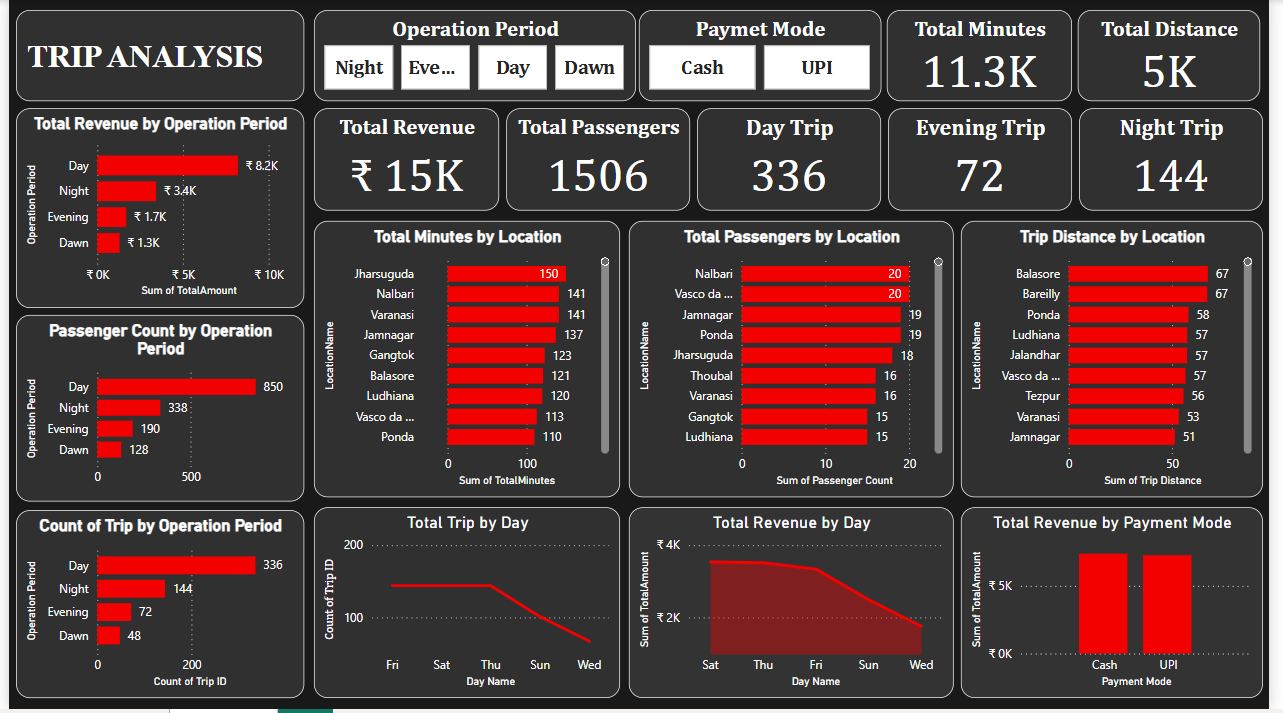

The page's visual inventory and layout, read from the dashboard file:
{"tool":"powerbi","page":{"name":"Page 1","canvas":[1280,720],"ordinal":0},"visuals":[{"type":"card","title":"Total Revenue","fields":{"Values":["Sum(TripData.TotalAmount)"]},"box":[309.7,110.6,188.1,104.2],"z":0},{"type":"card","title":"Total Passengers","fields":{"Values":["Sum(TripData.Passenger Count)"]},"box":[505.1,110.6,186.7,104.2],"z":1000},{"type":"card","title":"Day Trip","fields":{"Values":["All Measures.Day Trip"]},"box":[699,110.6,186.7,104.2],"z":2000},{"type":"card","title":"Evening Trip","fields":{"Values":["All Measures.Evening Trip"]},"box":[892.9,110.6,186.7,104.2],"z":3000},{"type":"card","title":"Night Trip","fields":{"Values":["All Measures.Night Trip"]},"box":[1086.8,110.6,186.7,104.2],"z":4000},{"type":"card","title":"Total Minutes","fields":{"Values":["Sum(TripData.TotalMinutes)"]},"box":[891.5,10.1,188.1,92.6],"z":5000},{"type":"card","title":"Total Distance","fields":{"Values":["Sum(TripData.Trip Distance)"]},"box":[1085.4,10.1,185.2,92.6],"z":6000},{"type":"barChart","title":"Total Minutes by Location","fields":{"Category":["Location.LocationName"],"Y":["Sum(TripData.TotalMinutes)"]},"box":[309.7,224.3,311.1,280.8],"z":7000},{"type":"barChart","title":"Total Passengers by Location","fields":{"Y":["Sum(TripData.Passenger Count)"],"Category":["Location.LocationName"]},"box":[629.5,224.3,330,280.8],"z":8000},{"type":"barChart","title":"Trip Distance by Location","fields":{"Category":["Location.LocationName"],"Y":["Sum(TripData.Trip Distance)"]},"box":[966.7,224.3,306.8,280.8],"z":9000},{"type":"lineChart","title":"Total Trip by Day","fields":{"Category":["Date.Day Name"],"Y":["CountNonNull(TripData.Trip ID)"]},"box":[309.7,515.2,311.1,193.9],"z":10000},{"type":"areaChart","title":"Total Revenue by Day","fields":{"Category":["Date.Day Name"],"Y":["Sum(TripData.TotalAmount)"]},"box":[629.5,515.2,330,193.9],"z":11000},{"type":"clusteredColumnChart","title":"Total Revenue by Payment Mode","fields":{"Category":["TripData.Payment Mode"],"Y":["Sum(TripData.TotalAmount)"]},"box":[966.7,515.2,306.8,193.9],"z":12000},{"type":"barChart","title":"Total Revenue by Operation Period","fields":{"Category":["TripData.Operation Period"],"Y":["Sum(TripData.TotalAmount)"]},"box":[7.2,110,292.3,202.6],"z":13000},{"type":"barChart","title":"Passenger Count by Operation Period","fields":{"Category":["TripData.Operation Period"],"Y":["Sum(TripData.Passenger Count)"]},"box":[7.2,319.8,292.3,189.6],"z":14000},{"type":"barChart","title":"Count of Trip by Operation Period","fields":{"Category":["TripData.Operation Period"],"Y":["CountNonNull(TripData.Trip ID)"]},"box":[7.2,518.1,292.3,191],"z":15000},{"type":"advancedSlicerVisual","title":"Operation Period","fields":{"Values":["TripData.Operation Period"]},"box":[309.7,10.1,327.1,92.6],"z":16000},{"type":"textbox","box":[7.2,10.1,292.3,92.6],"z":17000},{"type":"advancedSlicerVisual","title":"Paymet Mode","fields":{"Values":["TripData.Payment Mode"]},"box":[639.7,10.1,246,92.6],"z":18000}]}

Visuals, with their boxes in screenshot pixels (x1, y1, x2, y2), scaled from the page's 1280x720 canvas onto the 1283x713 screenshot:
"Total Revenue" card: [x1=310, y1=110, x2=499, y2=213]
"Total Passengers" card: [x1=506, y1=110, x2=693, y2=213]
"Day Trip" card: [x1=701, y1=110, x2=888, y2=213]
"Evening Trip" card: [x1=895, y1=110, x2=1082, y2=213]
"Night Trip" card: [x1=1089, y1=110, x2=1276, y2=213]
"Total Minutes" card: [x1=894, y1=10, x2=1082, y2=102]
"Total Distance" card: [x1=1088, y1=10, x2=1274, y2=102]
"Total Minutes by Location" barChart: [x1=310, y1=222, x2=622, y2=500]
"Total Passengers by Location" barChart: [x1=631, y1=222, x2=962, y2=500]
"Trip Distance by Location" barChart: [x1=969, y1=222, x2=1276, y2=500]
"Total Trip by Day" lineChart: [x1=310, y1=510, x2=622, y2=702]
"Total Revenue by Day" areaChart: [x1=631, y1=510, x2=962, y2=702]
"Total Revenue by Payment Mode" clusteredColumnChart: [x1=969, y1=510, x2=1276, y2=702]
"Total Revenue by Operation Period" barChart: [x1=7, y1=109, x2=300, y2=310]
"Passenger Count by Operation Period" barChart: [x1=7, y1=317, x2=300, y2=504]
"Count of Trip by Operation Period" barChart: [x1=7, y1=513, x2=300, y2=702]
"Operation Period" advancedSlicerVisual: [x1=310, y1=10, x2=638, y2=102]
textbox: [x1=7, y1=10, x2=300, y2=102]
"Paymet Mode" advancedSlicerVisual: [x1=641, y1=10, x2=888, y2=102]
